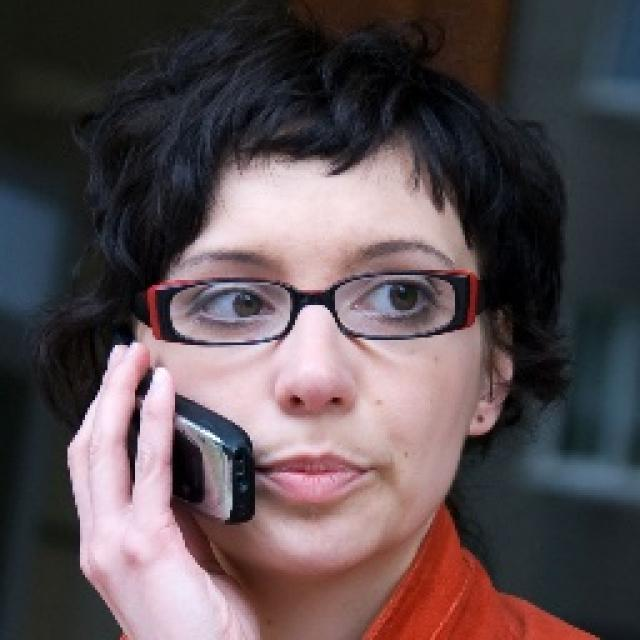earlobe: (466, 304, 514, 436)
